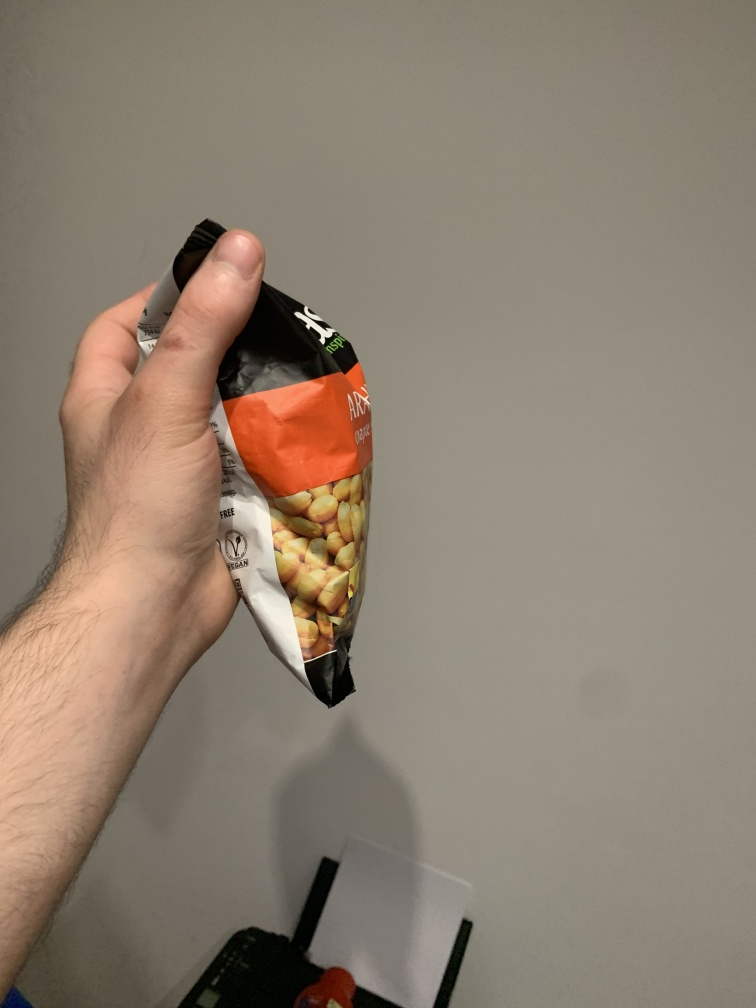peanuts: (149, 222, 389, 715)
